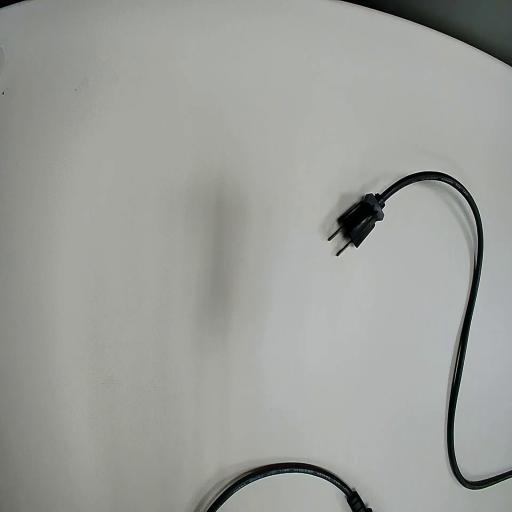wire: (334, 172, 511, 488)
